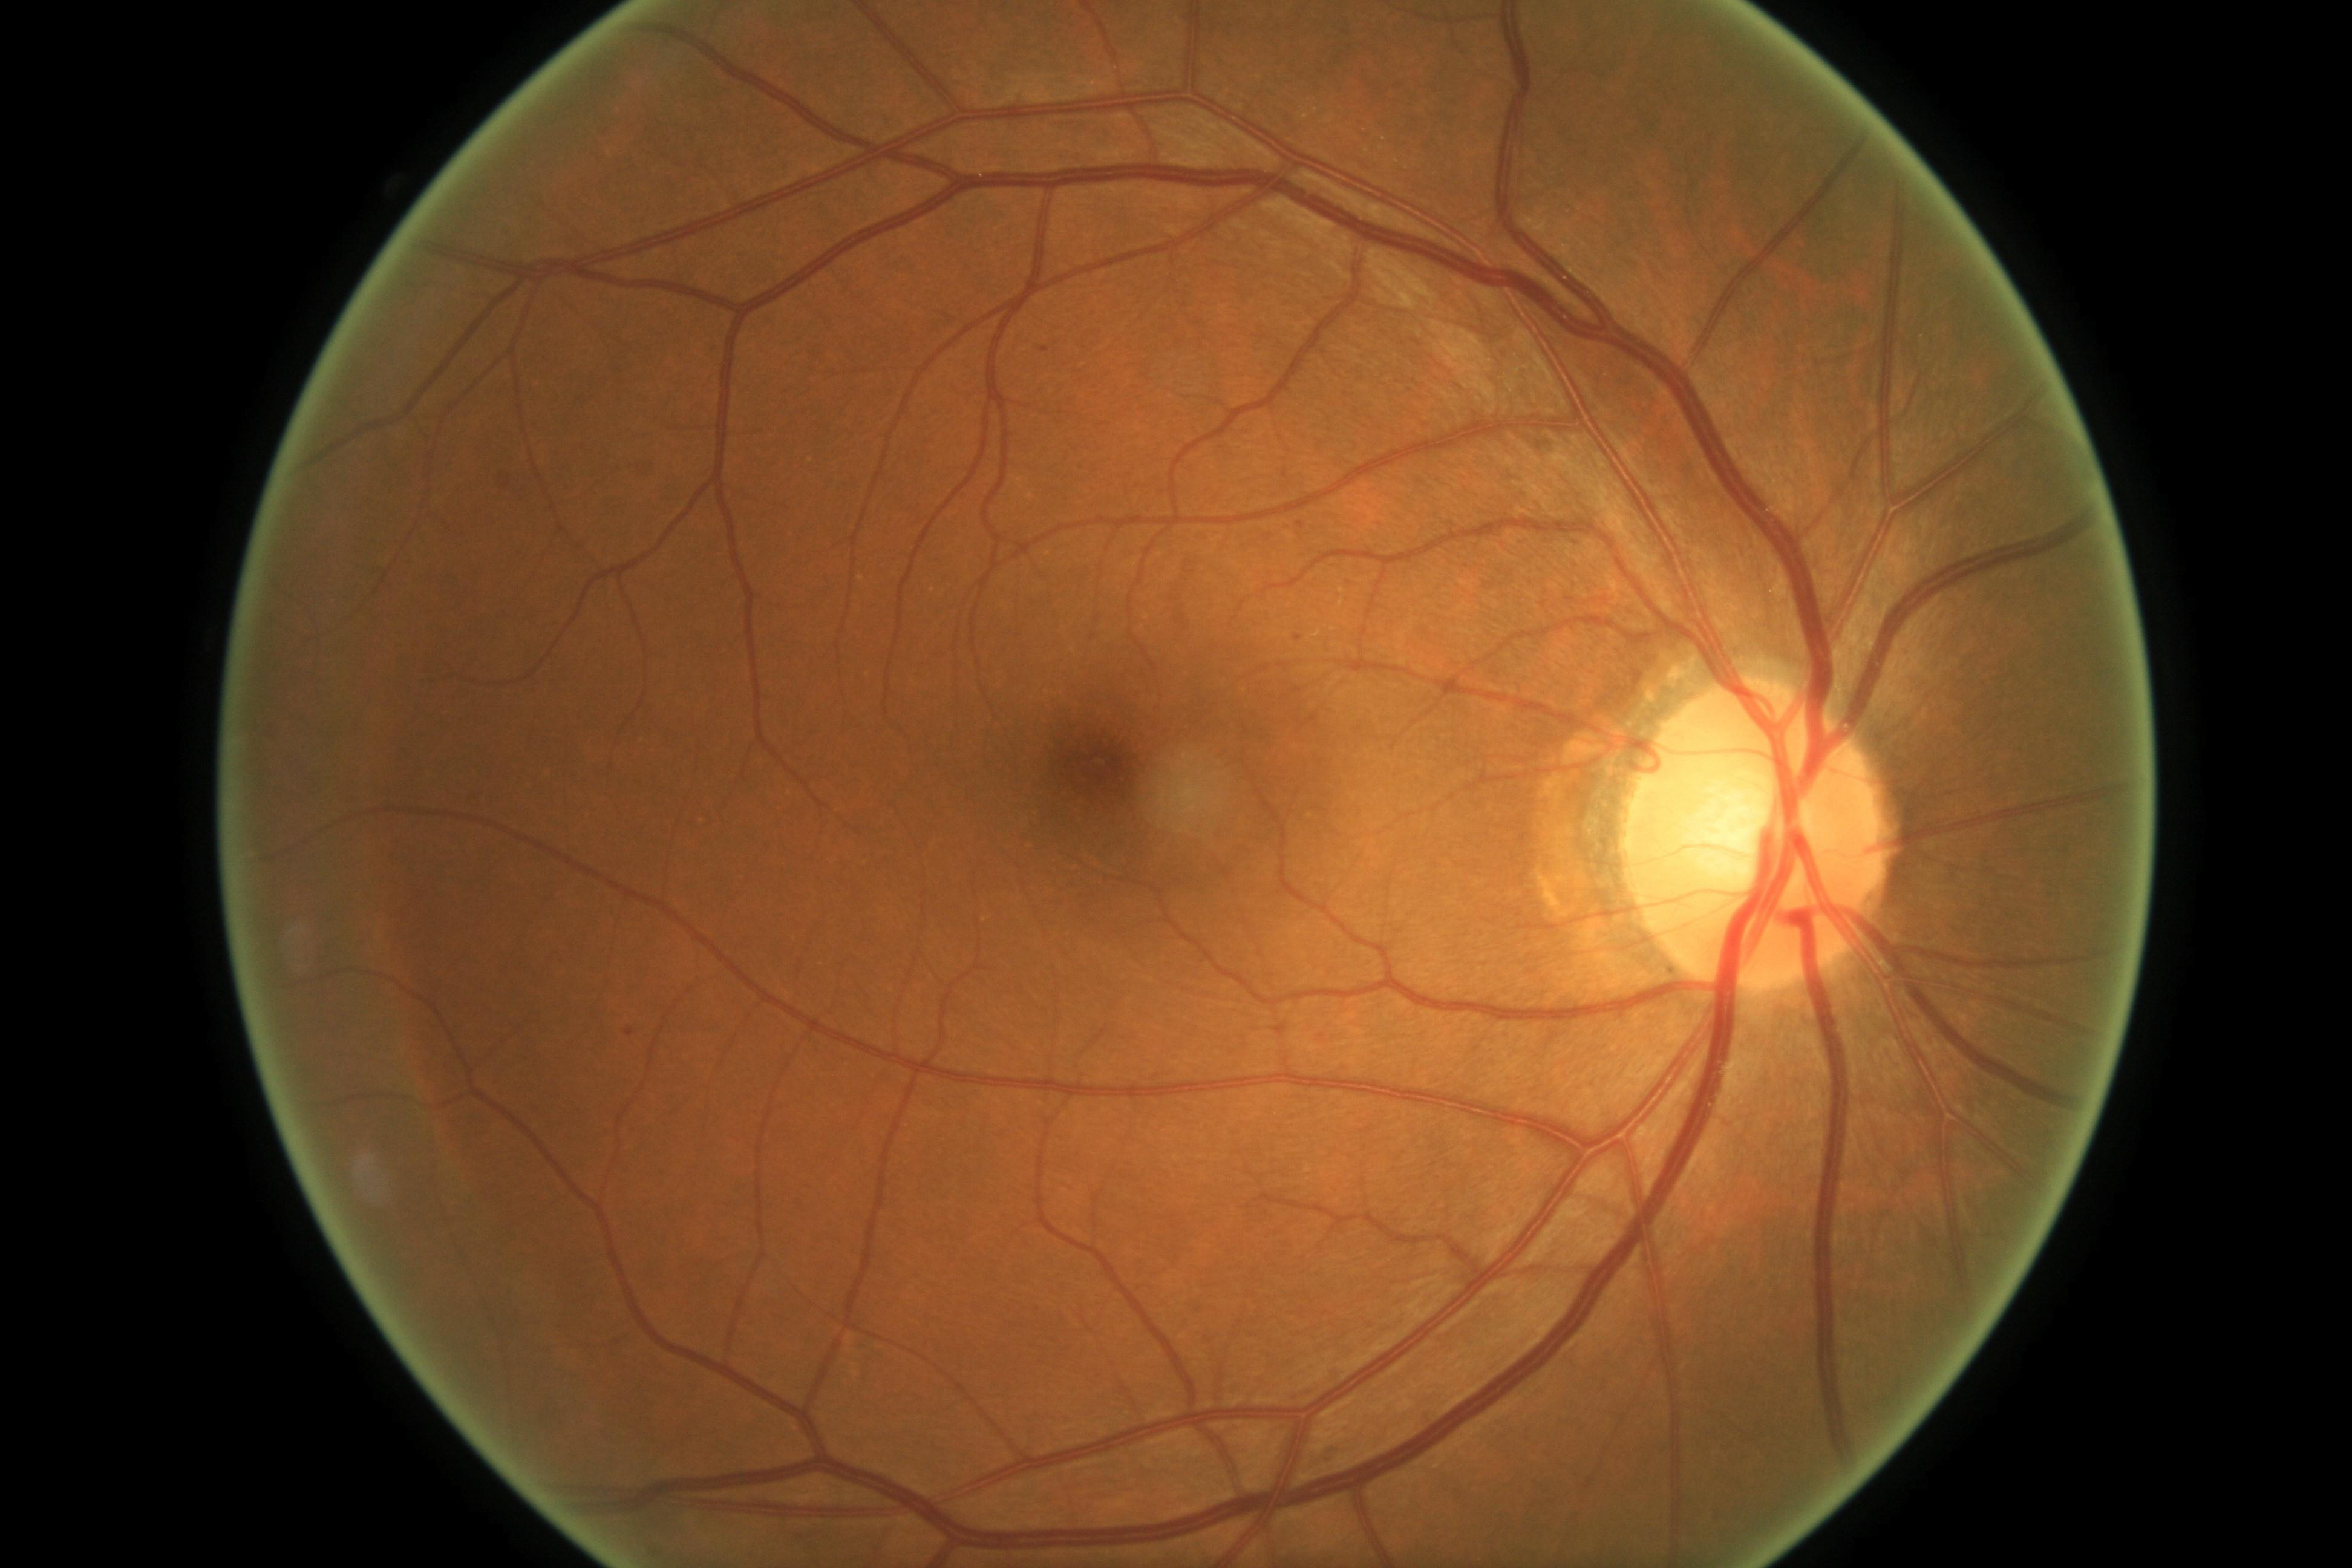Optic-nerve: (1603, 679, 1904, 997)
macula: (936, 654, 1307, 915)
